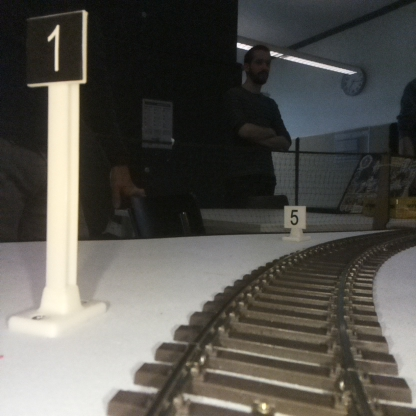black-info-1: (27, 12, 82, 331)
white-stop-5: (284, 204, 305, 241)
